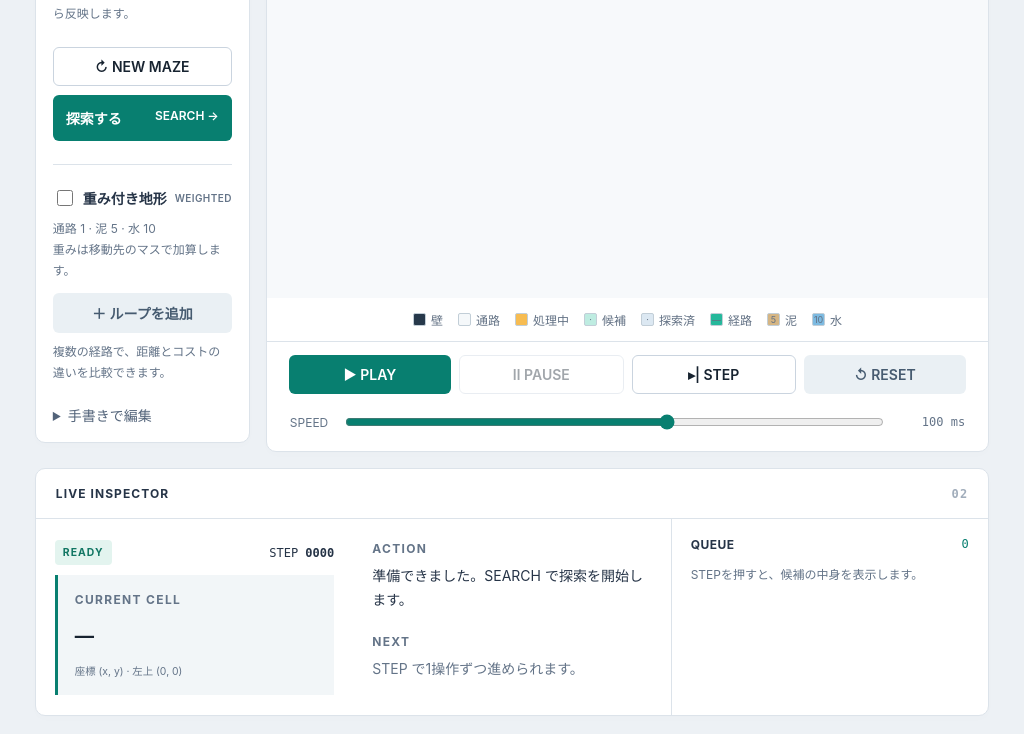
it: steps, shows queue and code, then resets the same maze
(page scrolled)
Click the button "▸| STEP" at {"x": 714, "y": 375}, box [632,355,796,394]
(page scrolled)
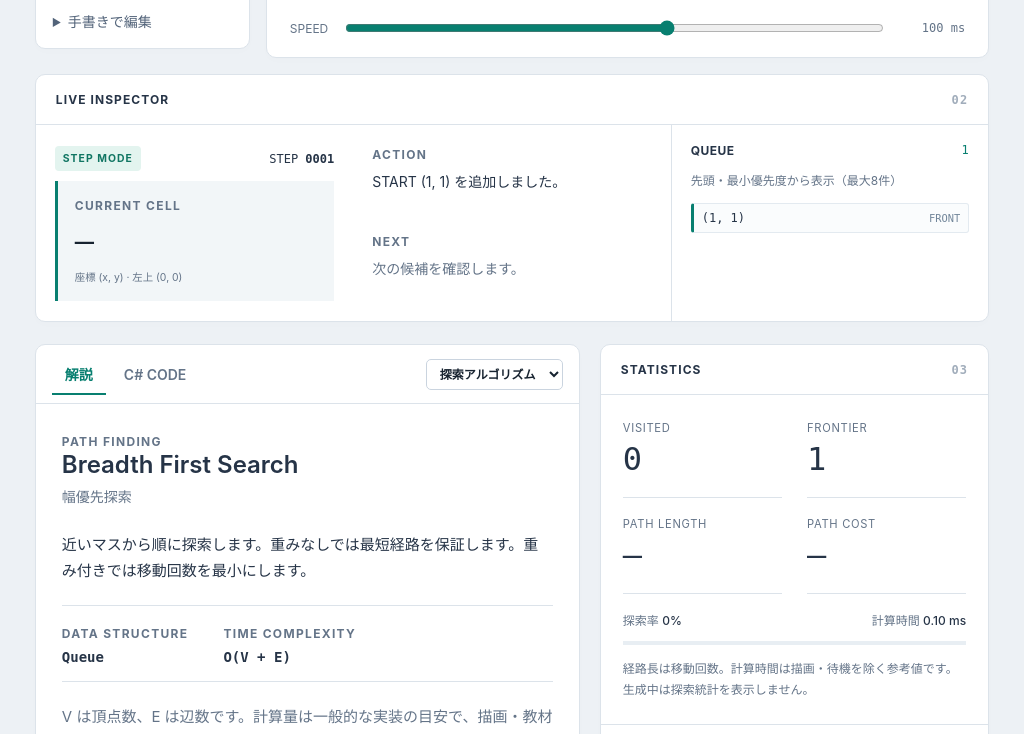
Check: the text "0001" is shown, box [305,152,334,166]
Check: the text "START (1, 1) を追加しました。" is shown, box [372,173,566,190]
Check: the text "FRONT" is shown, box [929,212,960,224]
Click the tab "C# CODE" at {"x": 155, "y": 374}, box [111,355,199,393]
(page scrolled)
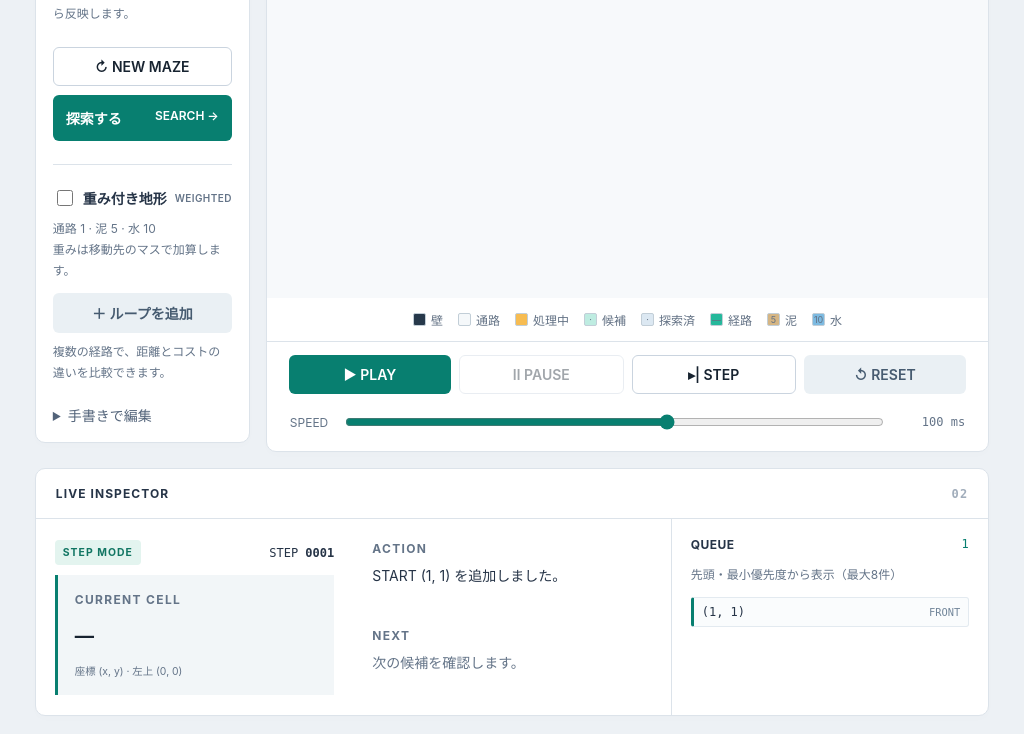
Click the button "↺ RESET" at {"x": 885, "y": 375}, box [804,355,966,394]
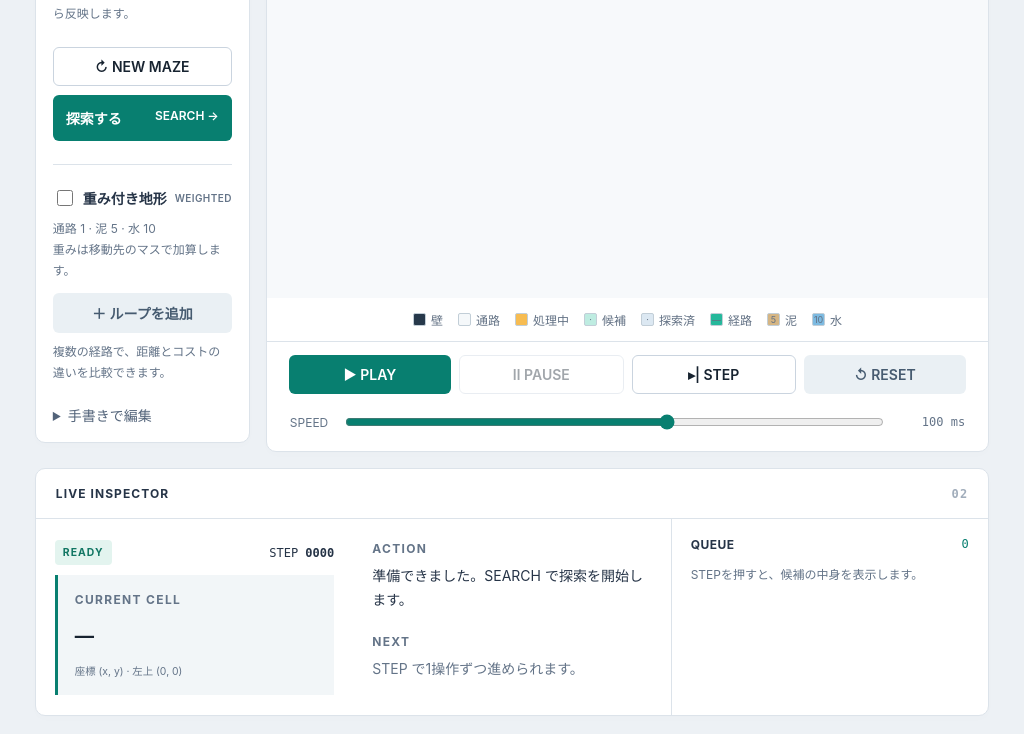
Check: the text "0000" is shown, box [305,546,334,560]
Check: the text "READY" is shown, box [55,540,112,565]
